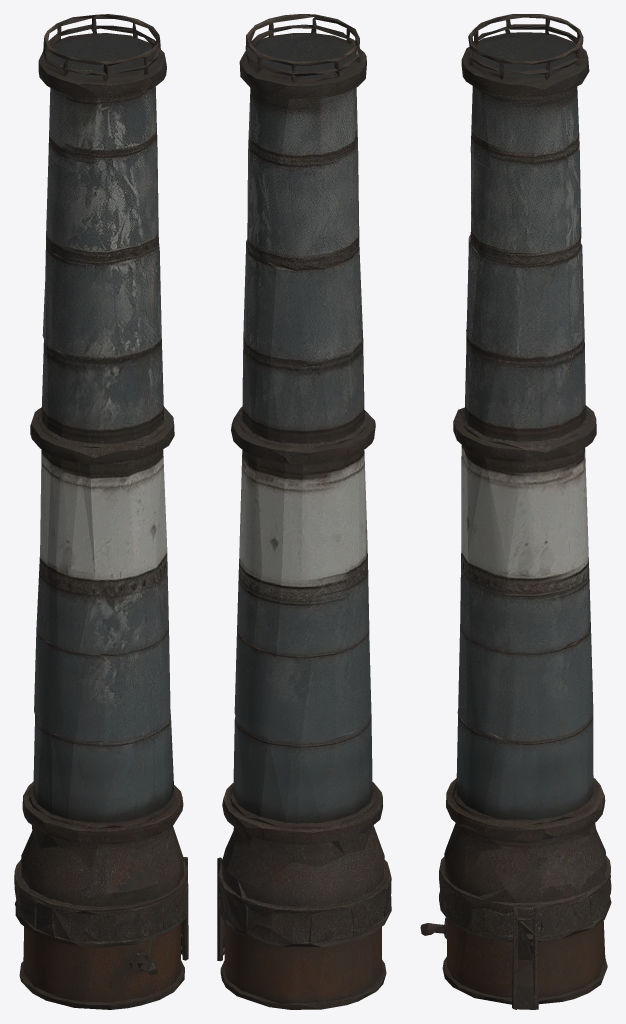
File: smokestack.glb
The picture shows the model from 3 angles, left to right: view 1: azimuth 30°, elevation 25°; view 2: azimuth 150°, elevation 25°; view 3: azimuth 270°, elevation 25°; orthographic projection.
Size of the model in its own units: 2.79 by 16 by 2.96.
1 material, 1 textured.
